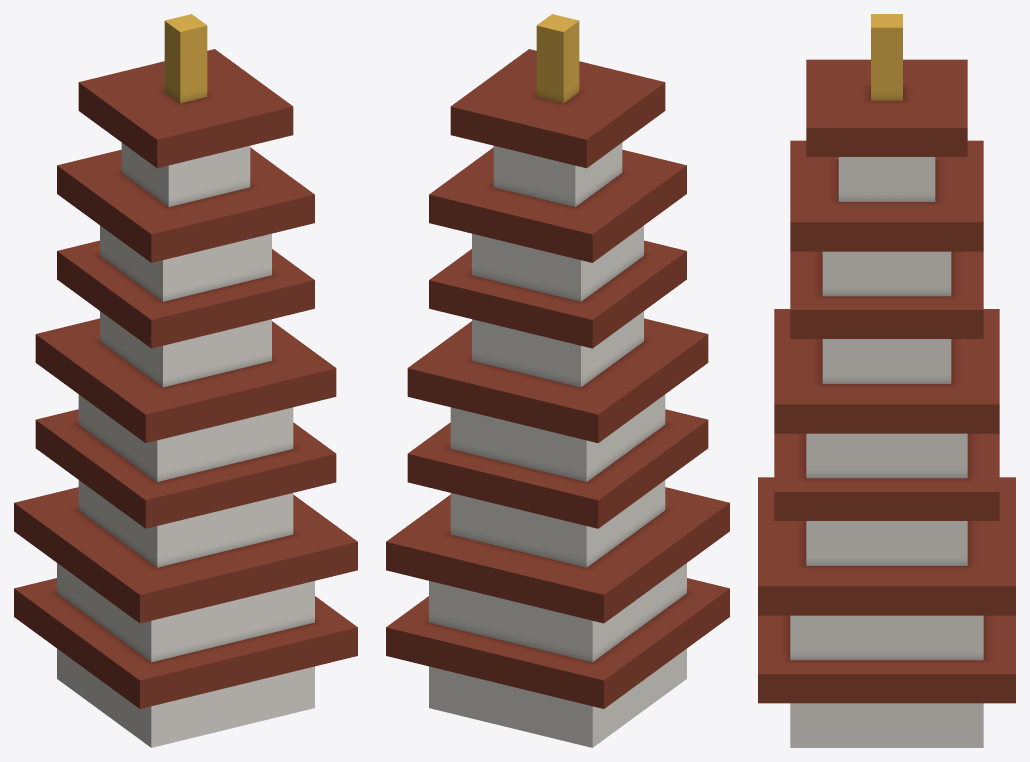
File: w_pagoda.glb
3 views of the same model, side by side, from view 1: azimuth 30°, elevation 25°; view 2: azimuth 150°, elevation 25°; view 3: azimuth 270°, elevation 25° (orthographic). The views are drawn at different scales.
Visible parts, largest first — view 1: w_pagoda_body; view 2: w_pagoda_body; view 3: w_pagoda_body.
Part boxes in pixels (x1,y1,x2,y2): w_pagoda_body: [14, 14, 357, 747]; w_pagoda_body: [386, 14, 729, 747]; w_pagoda_body: [758, 14, 1015, 747].
Size of the model in its own units: 1 by 2.94 by 1.
1 material, 1 textured.
